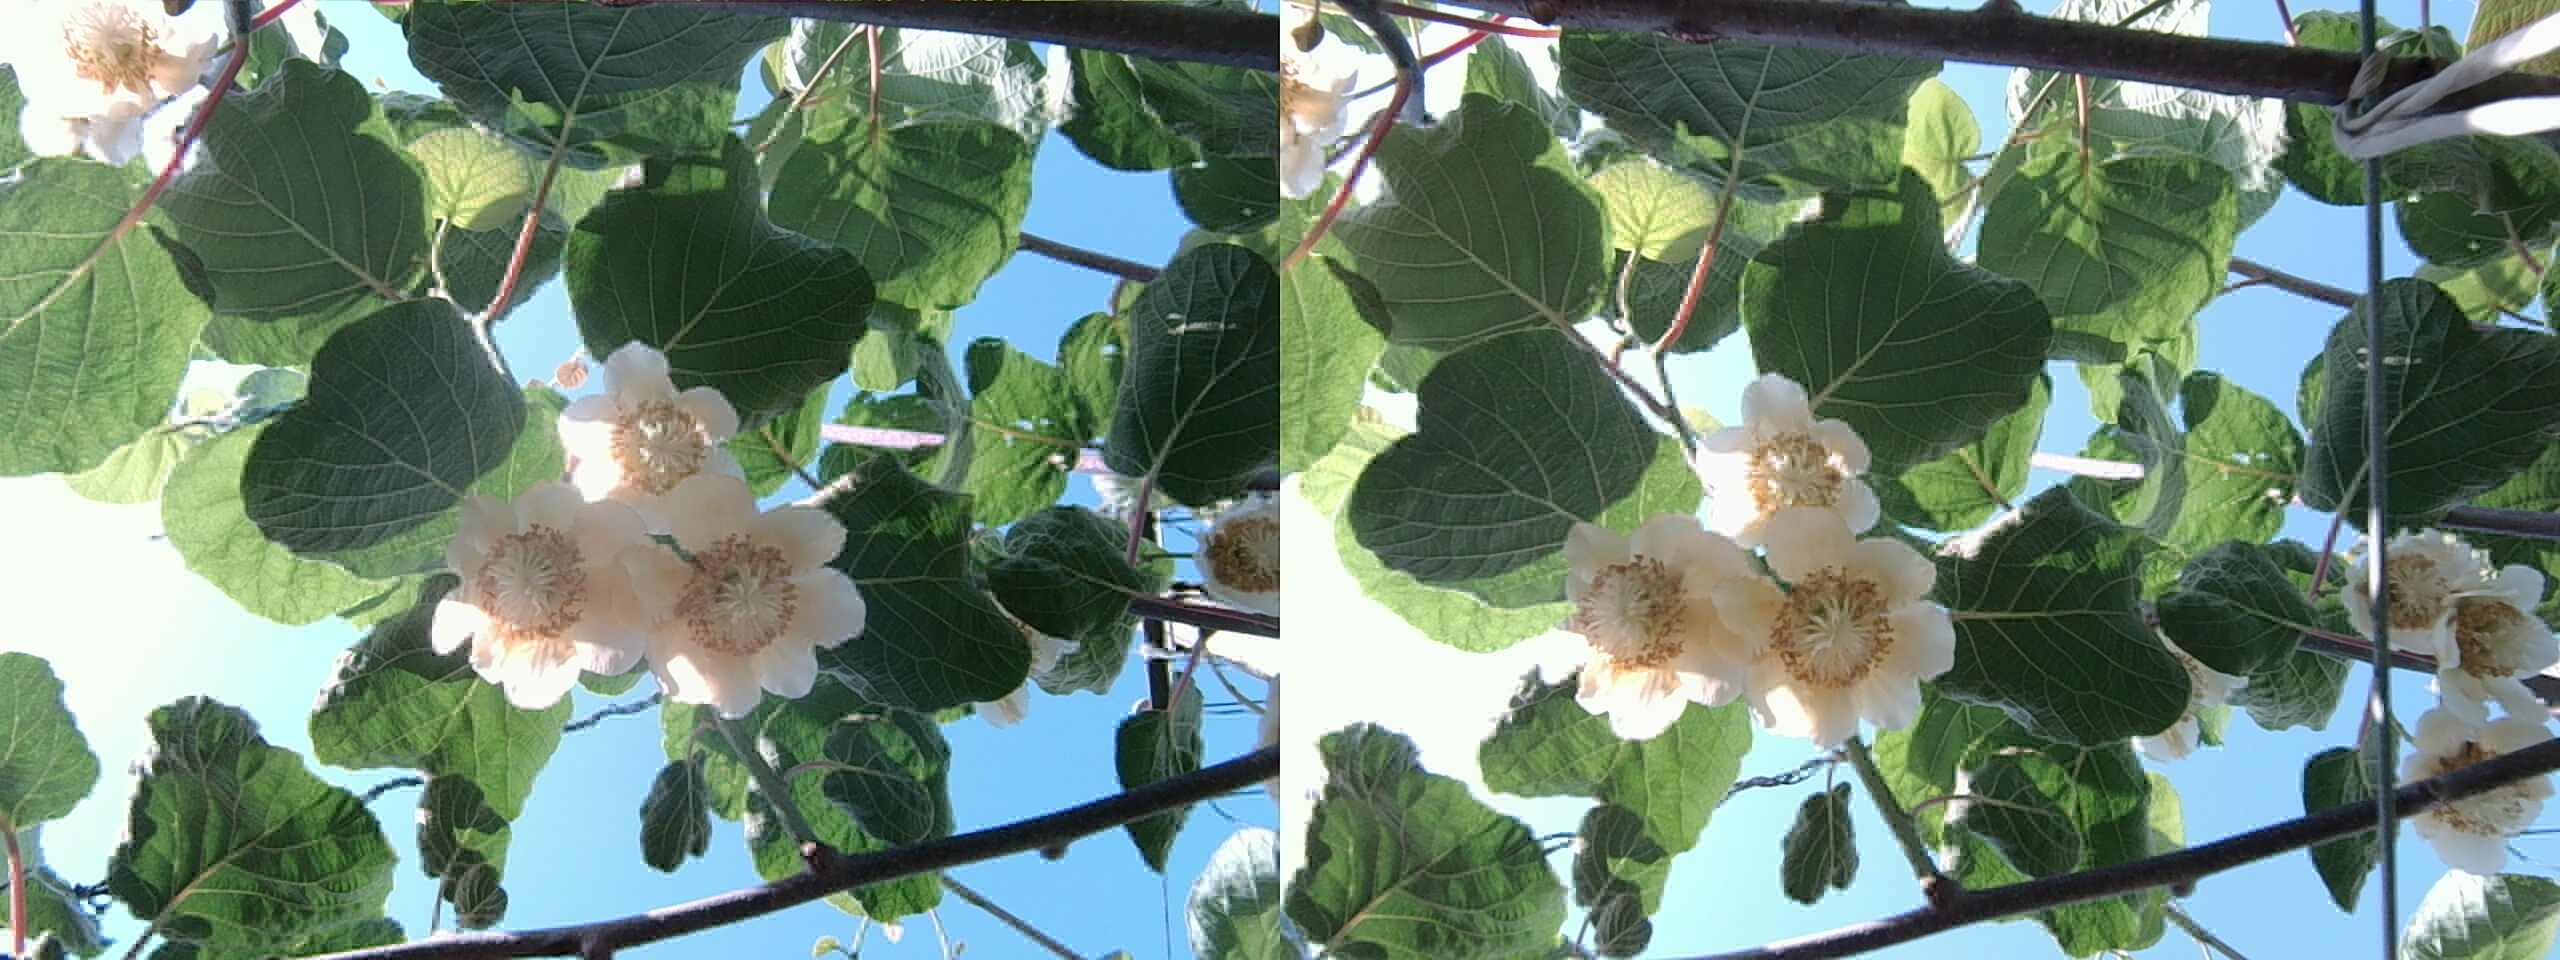flower: (607, 470, 865, 710), (1708, 504, 1953, 748), (428, 469, 663, 700), (1553, 503, 1767, 727), (555, 338, 744, 518), (7, 2, 222, 157), (1690, 374, 1873, 544), (2390, 544, 2549, 710), (2397, 700, 2553, 862), (2362, 531, 2522, 661)
